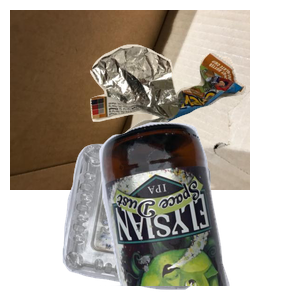cardboard: (10, 10, 250, 190)
glass: (97, 120, 300, 300)
plastic: (60, 141, 263, 300)
trash: (88, 42, 300, 219)
